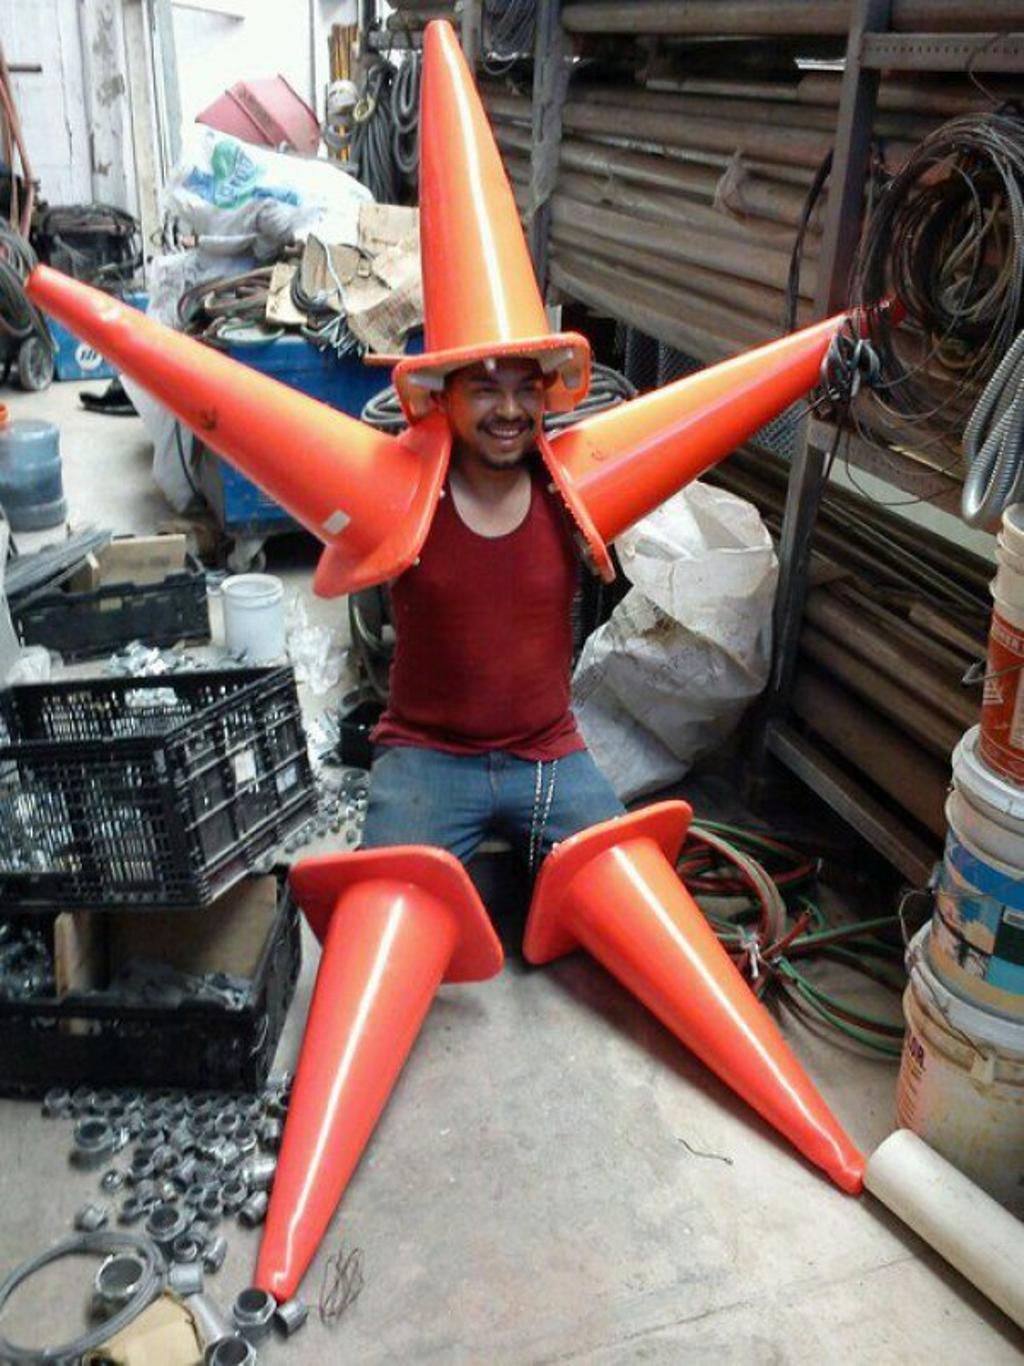face: (449, 353, 545, 468)
